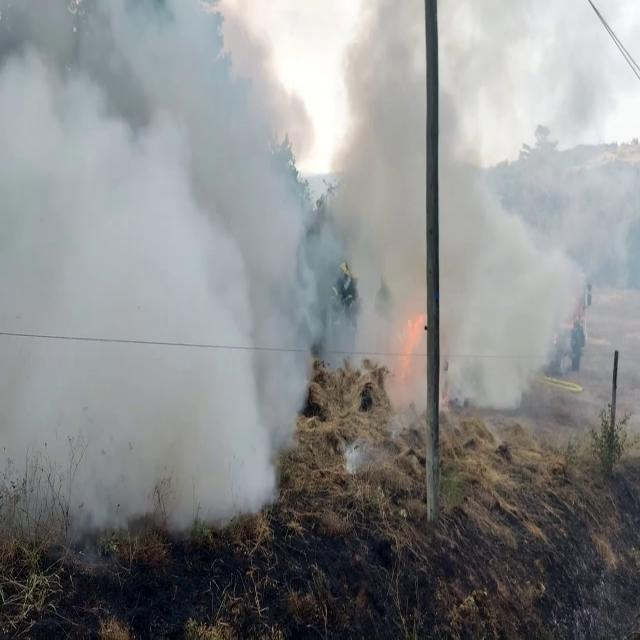Smoke: (0, 0, 421, 542), (346, 3, 640, 460)
